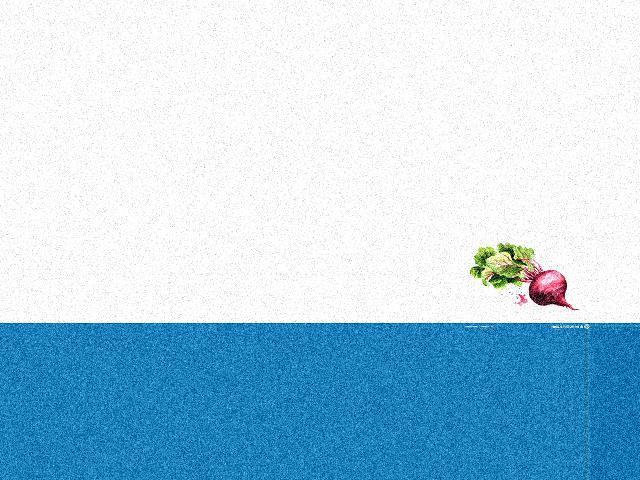beet: (468, 243, 578, 311)
